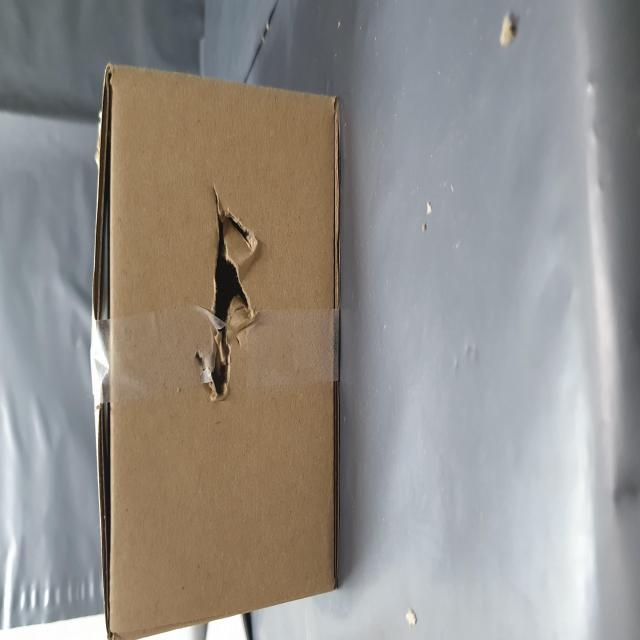damaged: (134, 347, 256, 474)
